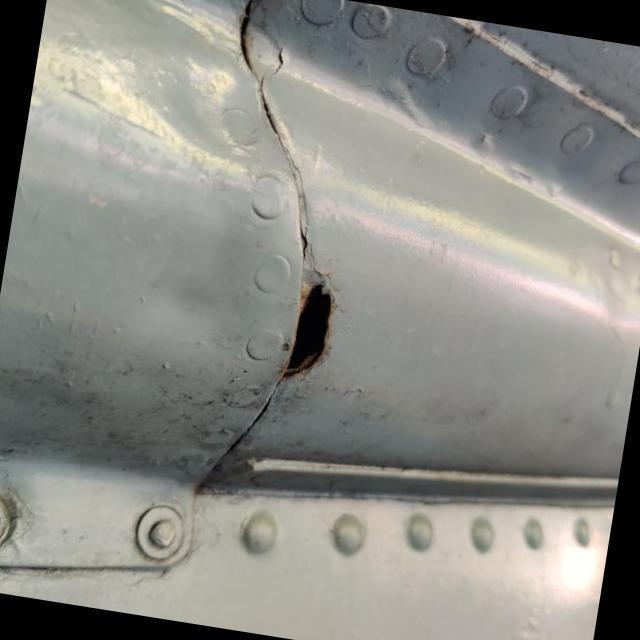Rupture: (250, 258, 352, 404)
